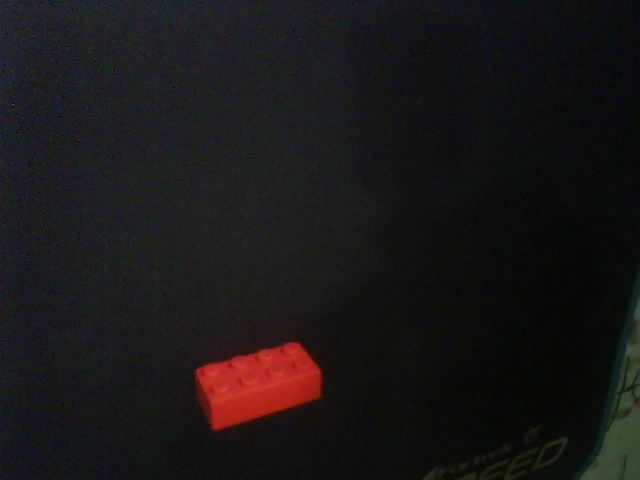lego: (193, 341, 324, 432)
